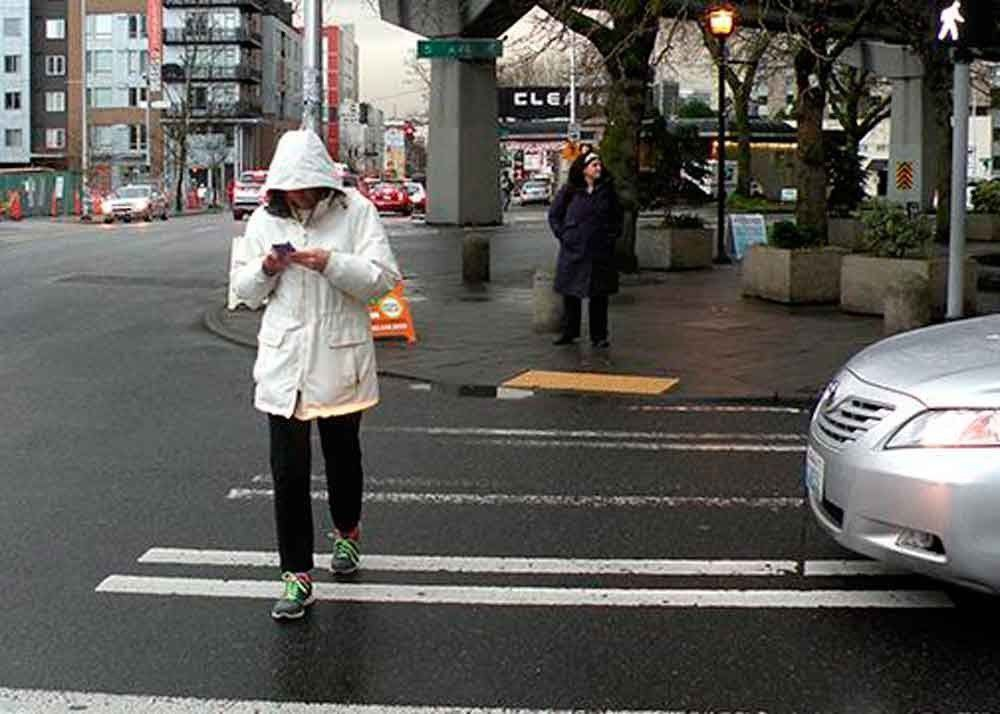sombie: (155, 108, 456, 617)
